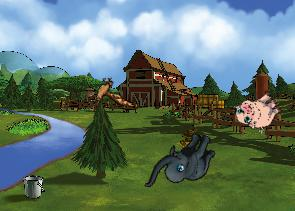eagle: (84, 73, 135, 115)
elephant: (143, 120, 220, 205)
pig: (230, 83, 286, 138)
